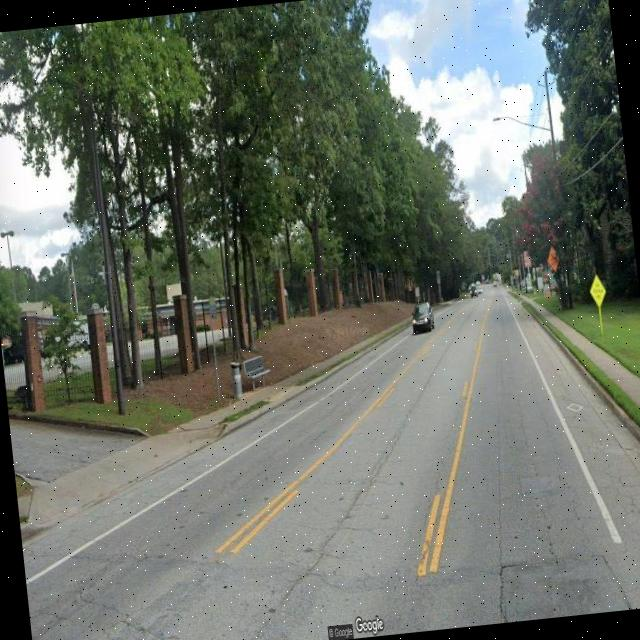seating: (242, 353, 272, 392)
trash_can: (230, 361, 244, 399)
